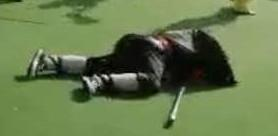Fall-Detected: (11, 16, 238, 102)
